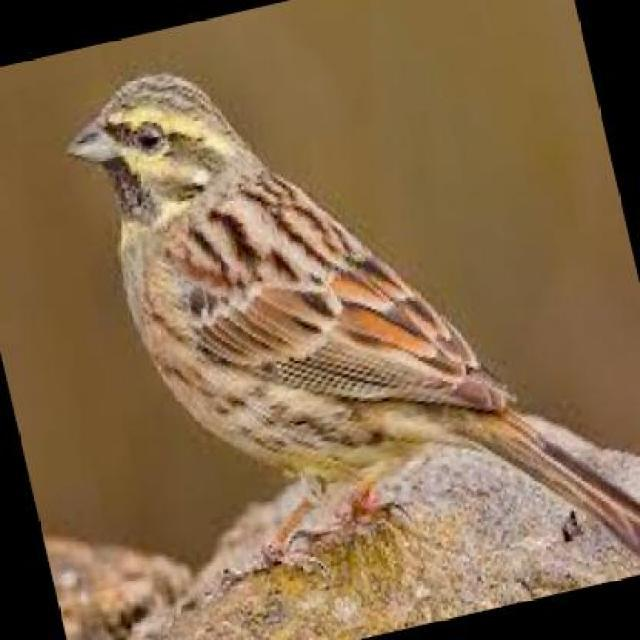Bird: (61, 64, 640, 551)
